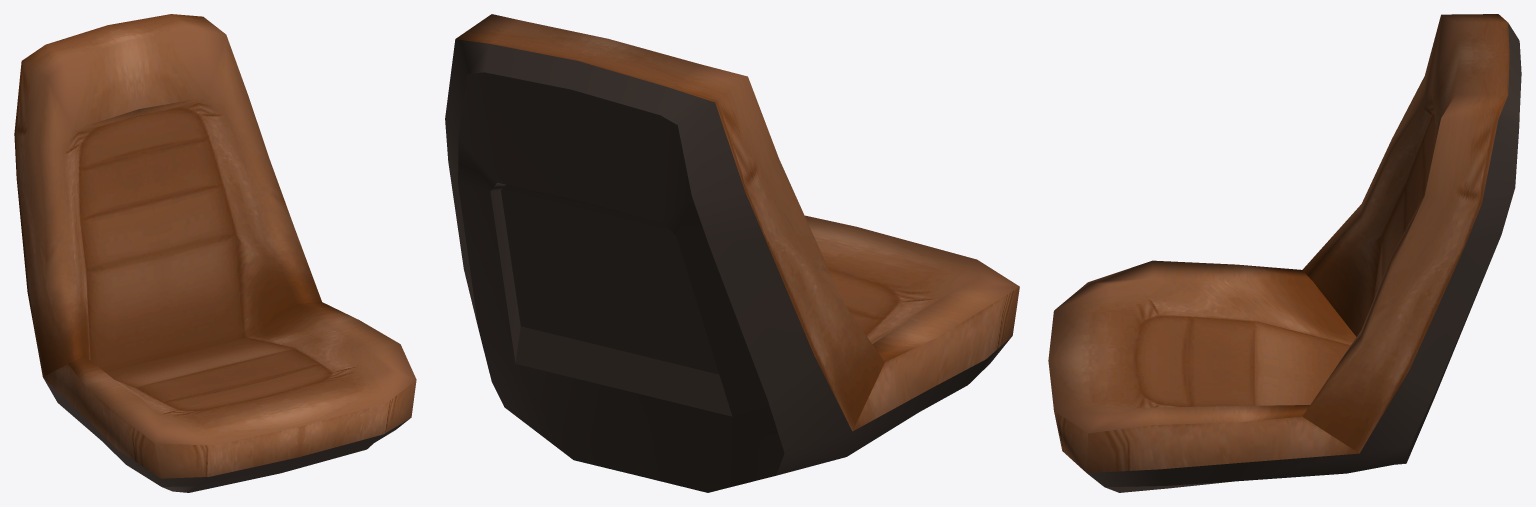
File: Seat.glb
The picture shows the model from 3 angles, left to right: view 1: azimuth 30°, elevation 25°; view 2: azimuth 150°, elevation 25°; view 3: azimuth 270°, elevation 25°; orthographic projection. The views are drawn at different scales.
Parts seen in each view (by area): view 1: polySurface1.3; view 2: polySurface1.3; view 3: polySurface1.3.
Boxes of the visible parts, x1=… form: polySurface1.3: x1=14, y1=14, x2=416, y2=492; polySurface1.3: x1=445, y1=14, x2=1019, y2=492; polySurface1.3: x1=1048, y1=14, x2=1521, y2=492.
Bounding box in the file's own units: 0.00473 × 0.00517 × 0.00576.
Materials: 2 (2 with a texture image).
